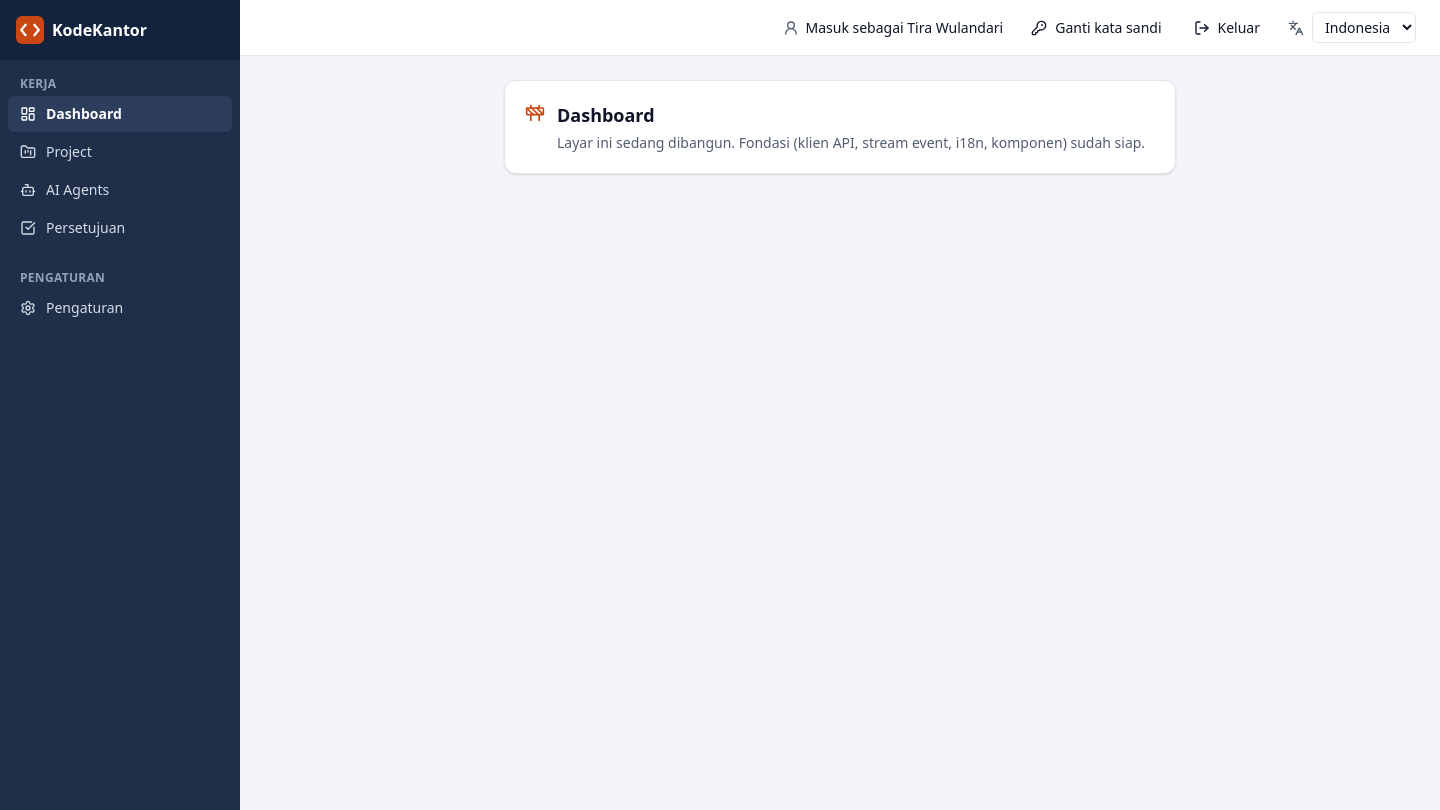
Test: ChangePasswordDialog › sends the backend's field names and says the password changed
Click the button "Ganti kata sandi". click: (1096,28)
box: [1019,12,1174,44]
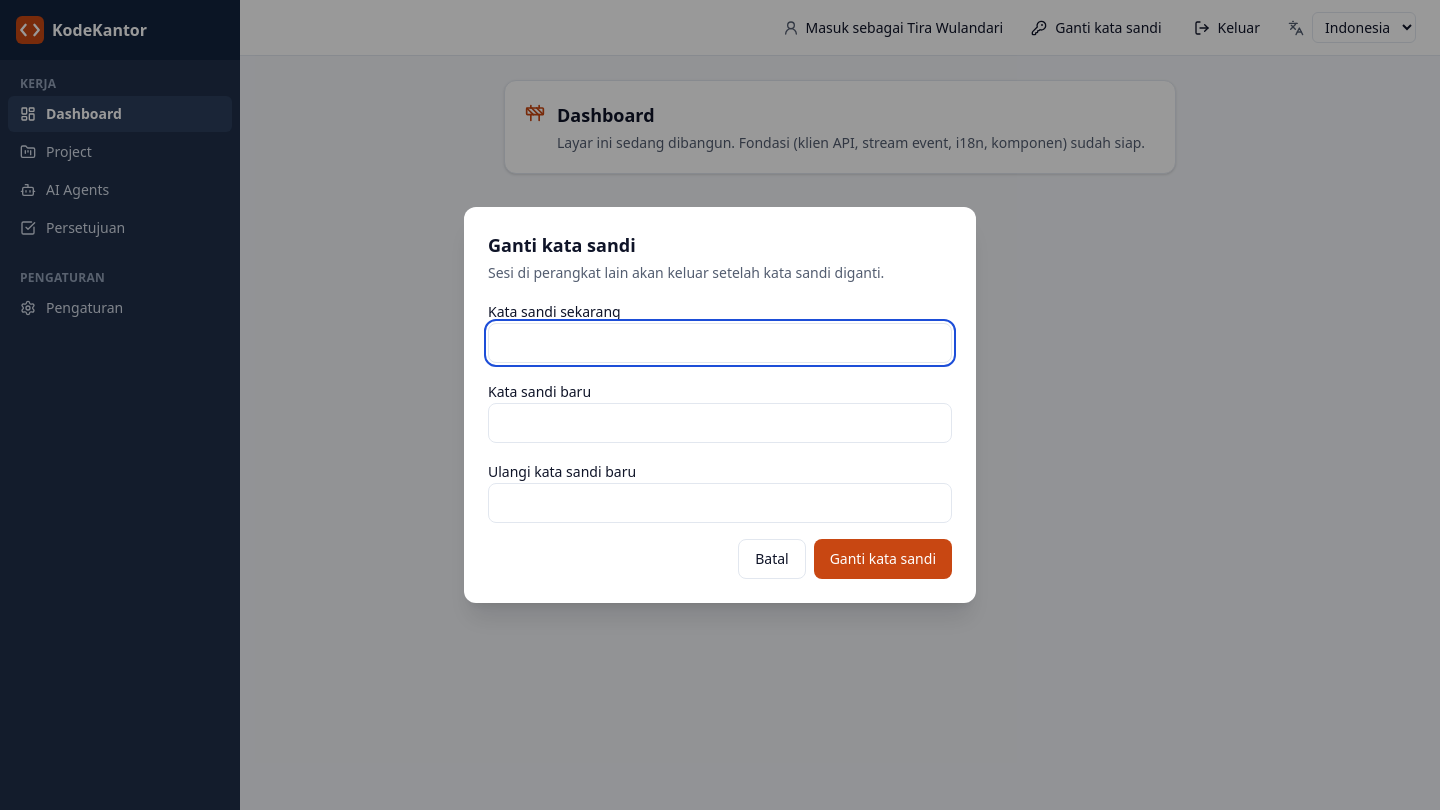
Type "kata-sandi-lama!" into the password field labelled "Kata sandi sekarang". click: (720,343)
box: [488,323,952,363]
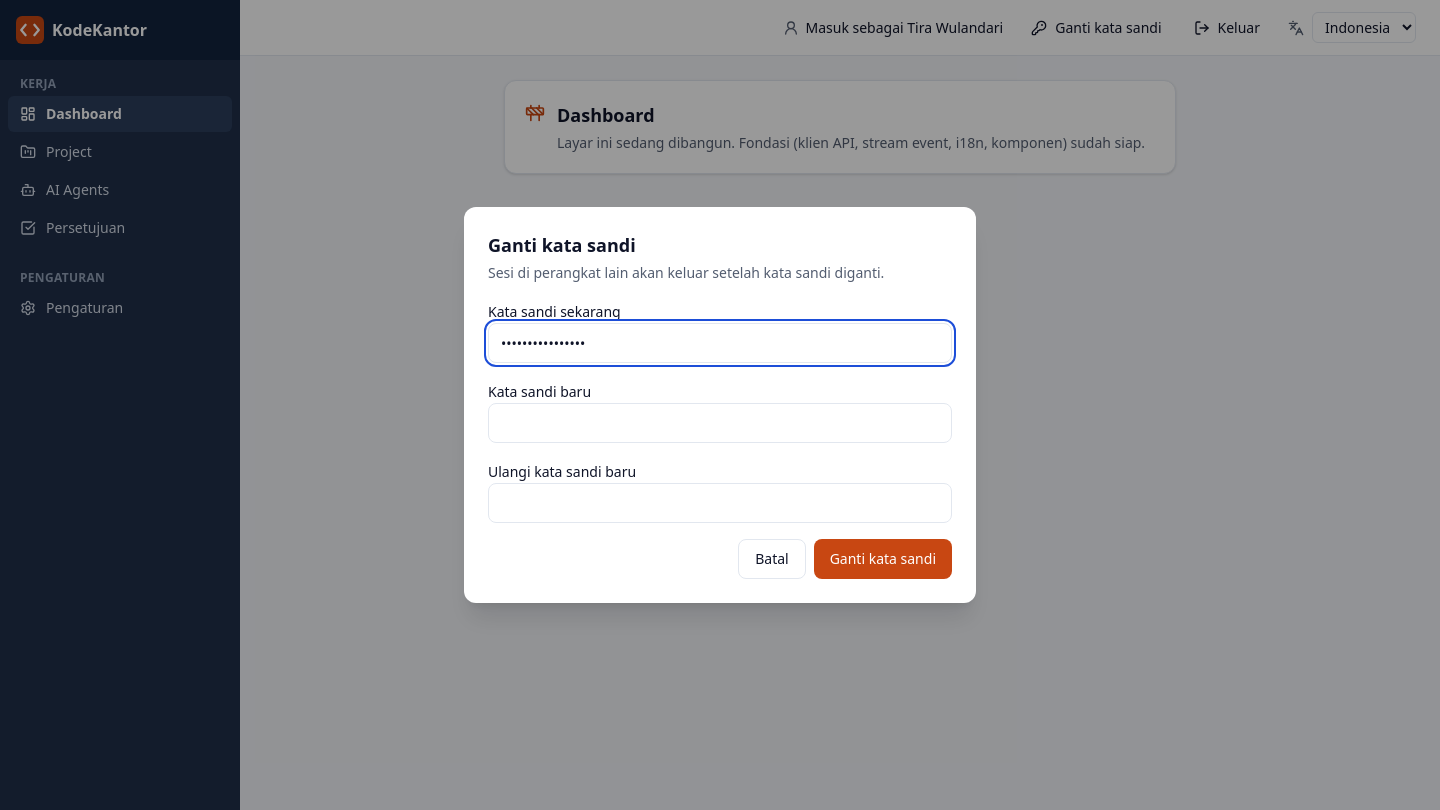
Type "kata-sandi-baru-123" into the password field labelled "Kata sandi baru". click: (720,423)
box: [488,403,952,443]
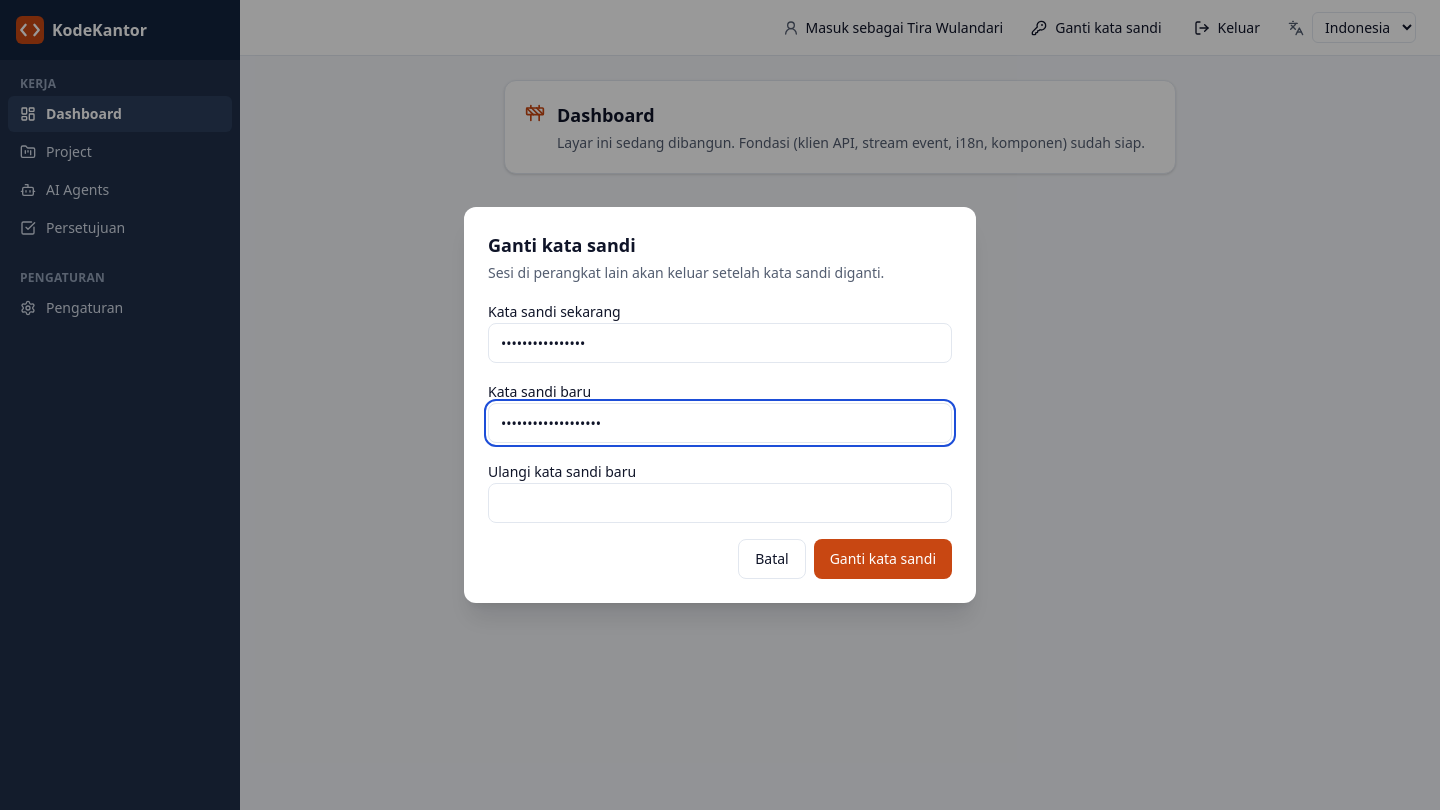
Type "kata-sandi-baru-123" into the password field labelled "Ulangi kata sandi baru". click: (720,503)
box: [488,483,952,523]
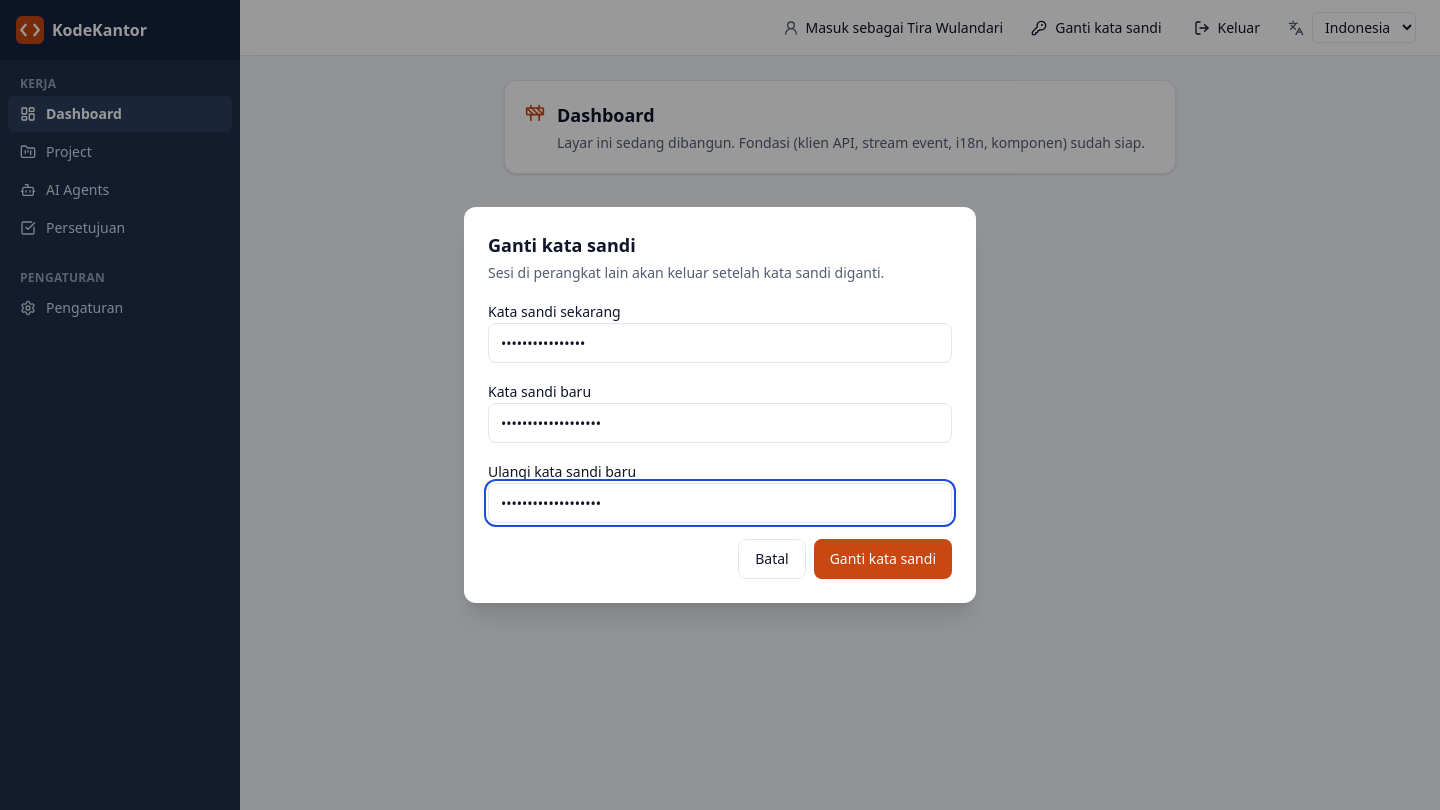
Click the button "Ganti kata sandi". click: (883,559)
box: [814,539,952,579]
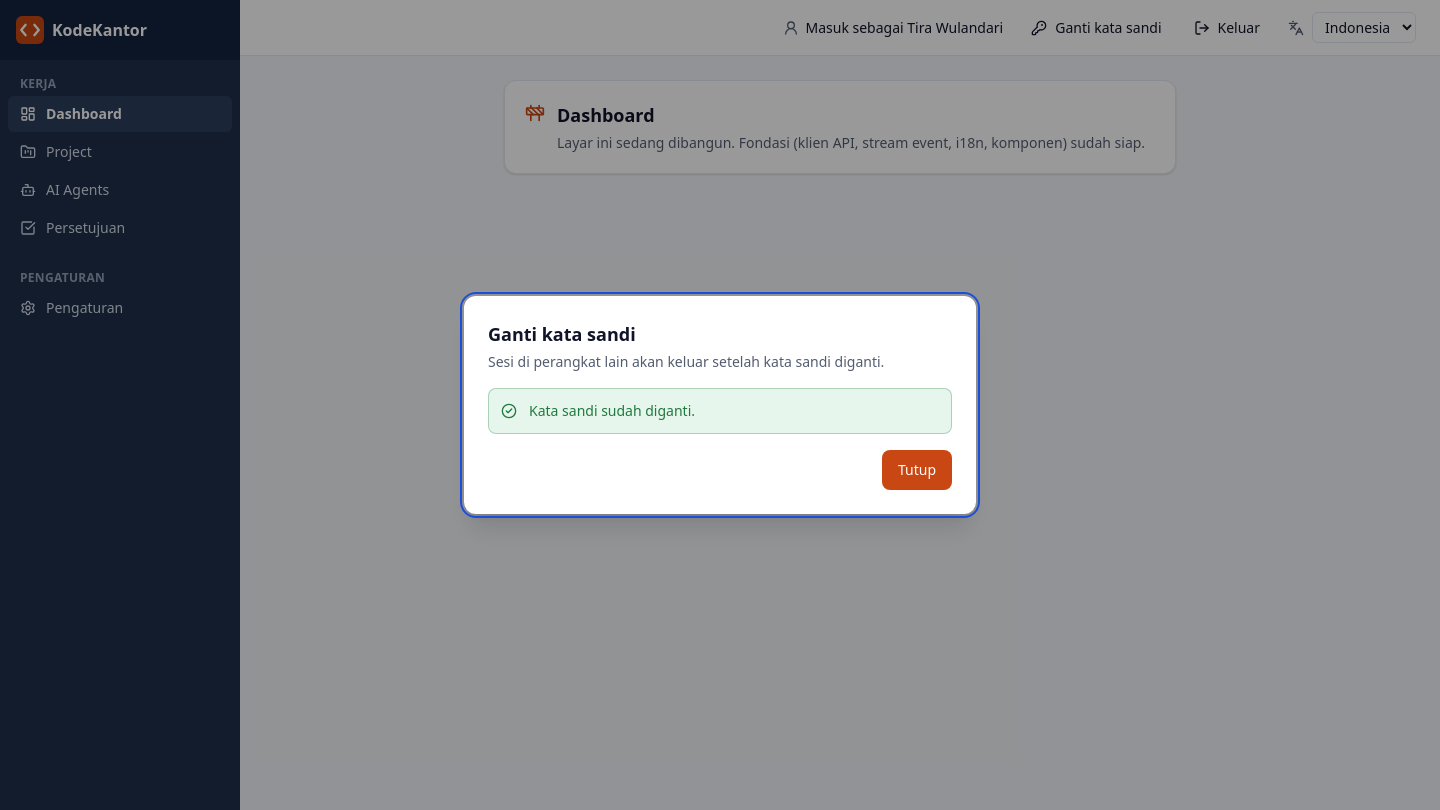
Check: the text "Kata sandi sudah diganti." is shown, box [529,401,695,421]
Click the button "Tutup". click: (917,470)
box: [882,450,952,490]
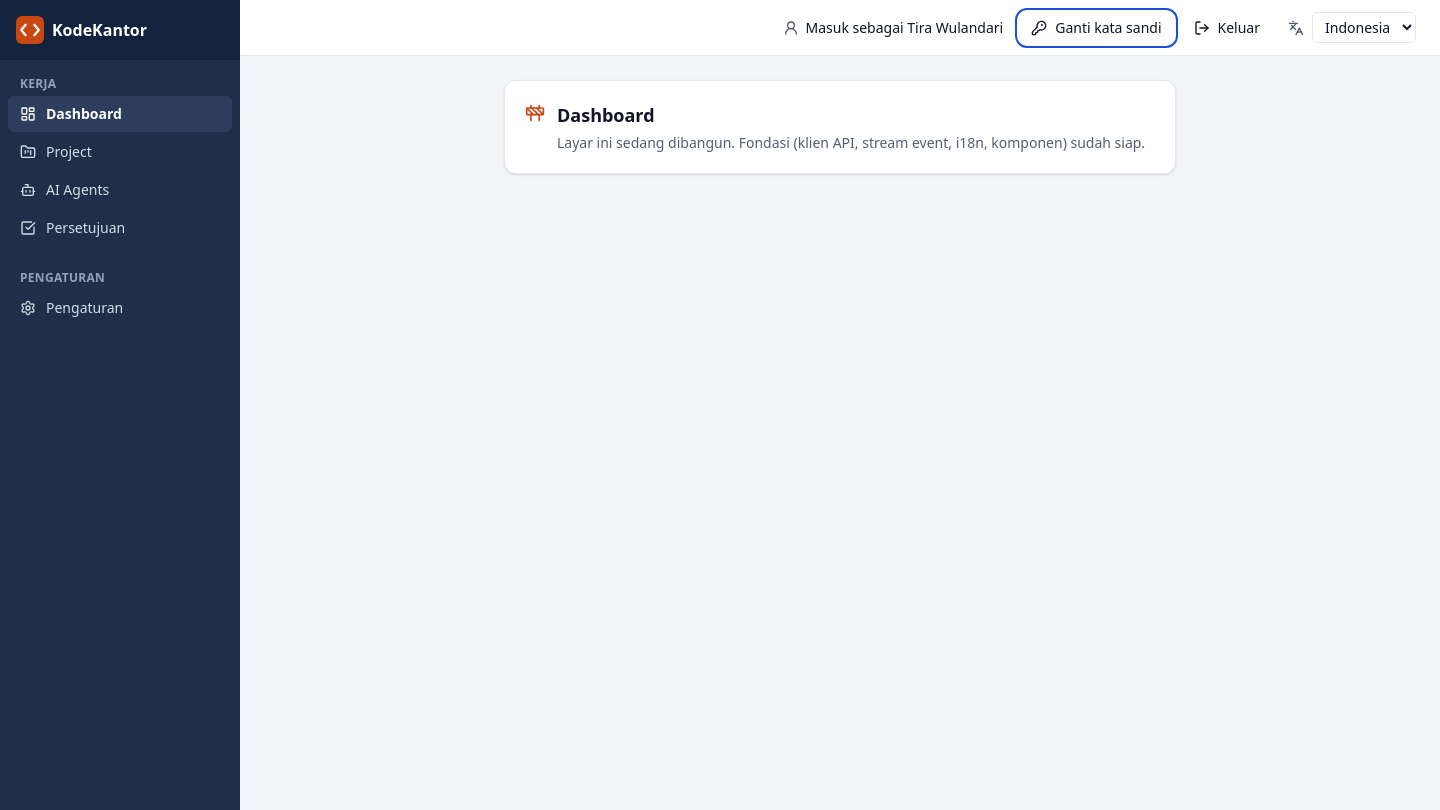
Check: the dialog is gone
